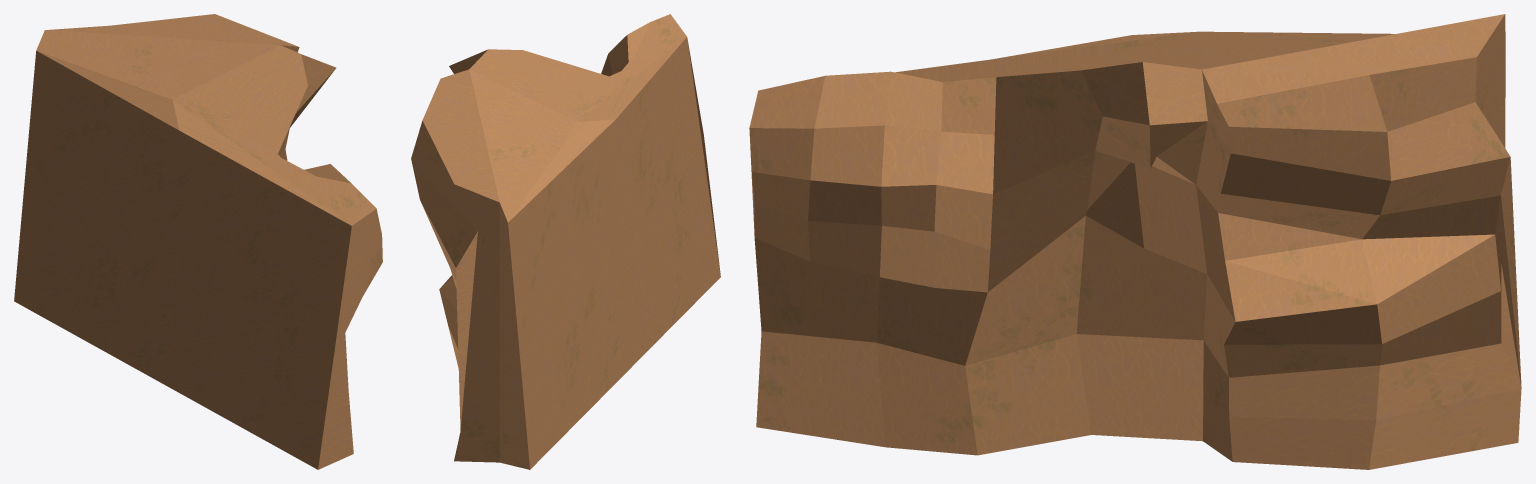
File: CliffFace_1.fbx
3 views of the same model, side by side, from view 1: azimuth 30°, elevation 25°; view 2: azimuth 150°, elevation 25°; view 3: azimuth 270°, elevation 25° (orthographic). The views are drawn at different scales.
Parts seen in each view (by area): view 1: Plane; view 2: Plane; view 3: Plane.
Boxes of the visible parts, x1,y1,x2,y2 form: Plane: (14,14,382,469); Plane: (411,14,720,469); Plane: (749,14,1521,469).
Size of the model in its own units: 1301 by 1901 by 2906.
